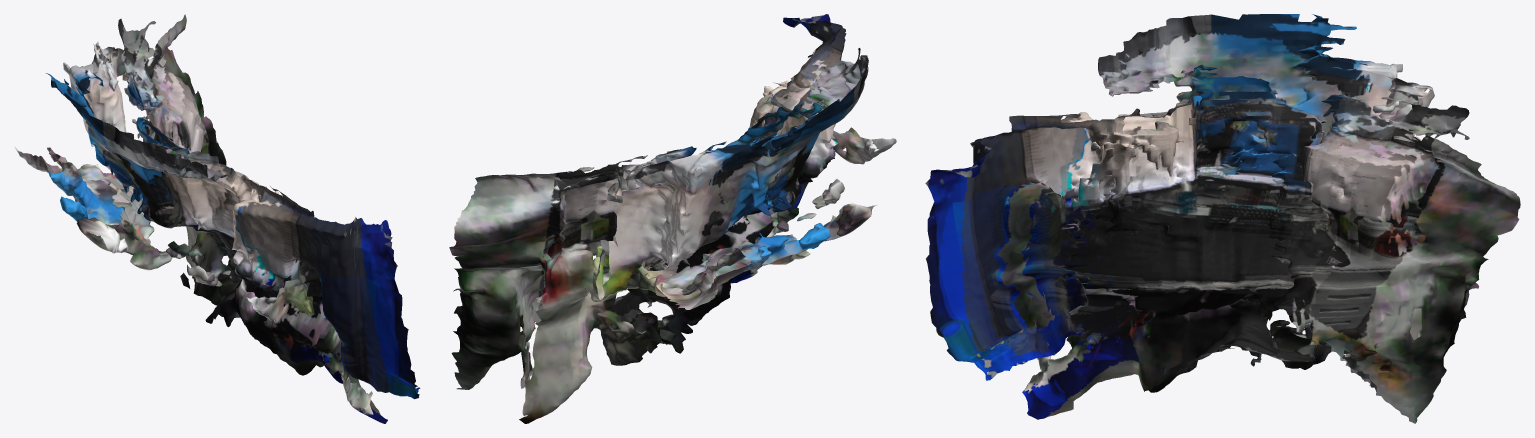
File: scan.glb
3 renders of one model, left to right at view 1: azimuth 30°, elevation 25°; view 2: azimuth 150°, elevation 25°; view 3: azimuth 270°, elevation 25°, orthographic. The views are drawn at different scales.
Visible parts, largest first — view 1: MobileScan3D_Textured; view 2: MobileScan3D_Textured; view 3: MobileScan3D_Textured.
Boxes of the visible parts, x1,y1,x2,y2 form: MobileScan3D_Textured: (14,14,420,423); MobileScan3D_Textured: (449,14,896,423); MobileScan3D_Textured: (925,14,1520,423).
Bounding box in the file's own units: 0.4162 × 0.4148 × 0.7406.
Materials: 1 (1 with a texture image).
